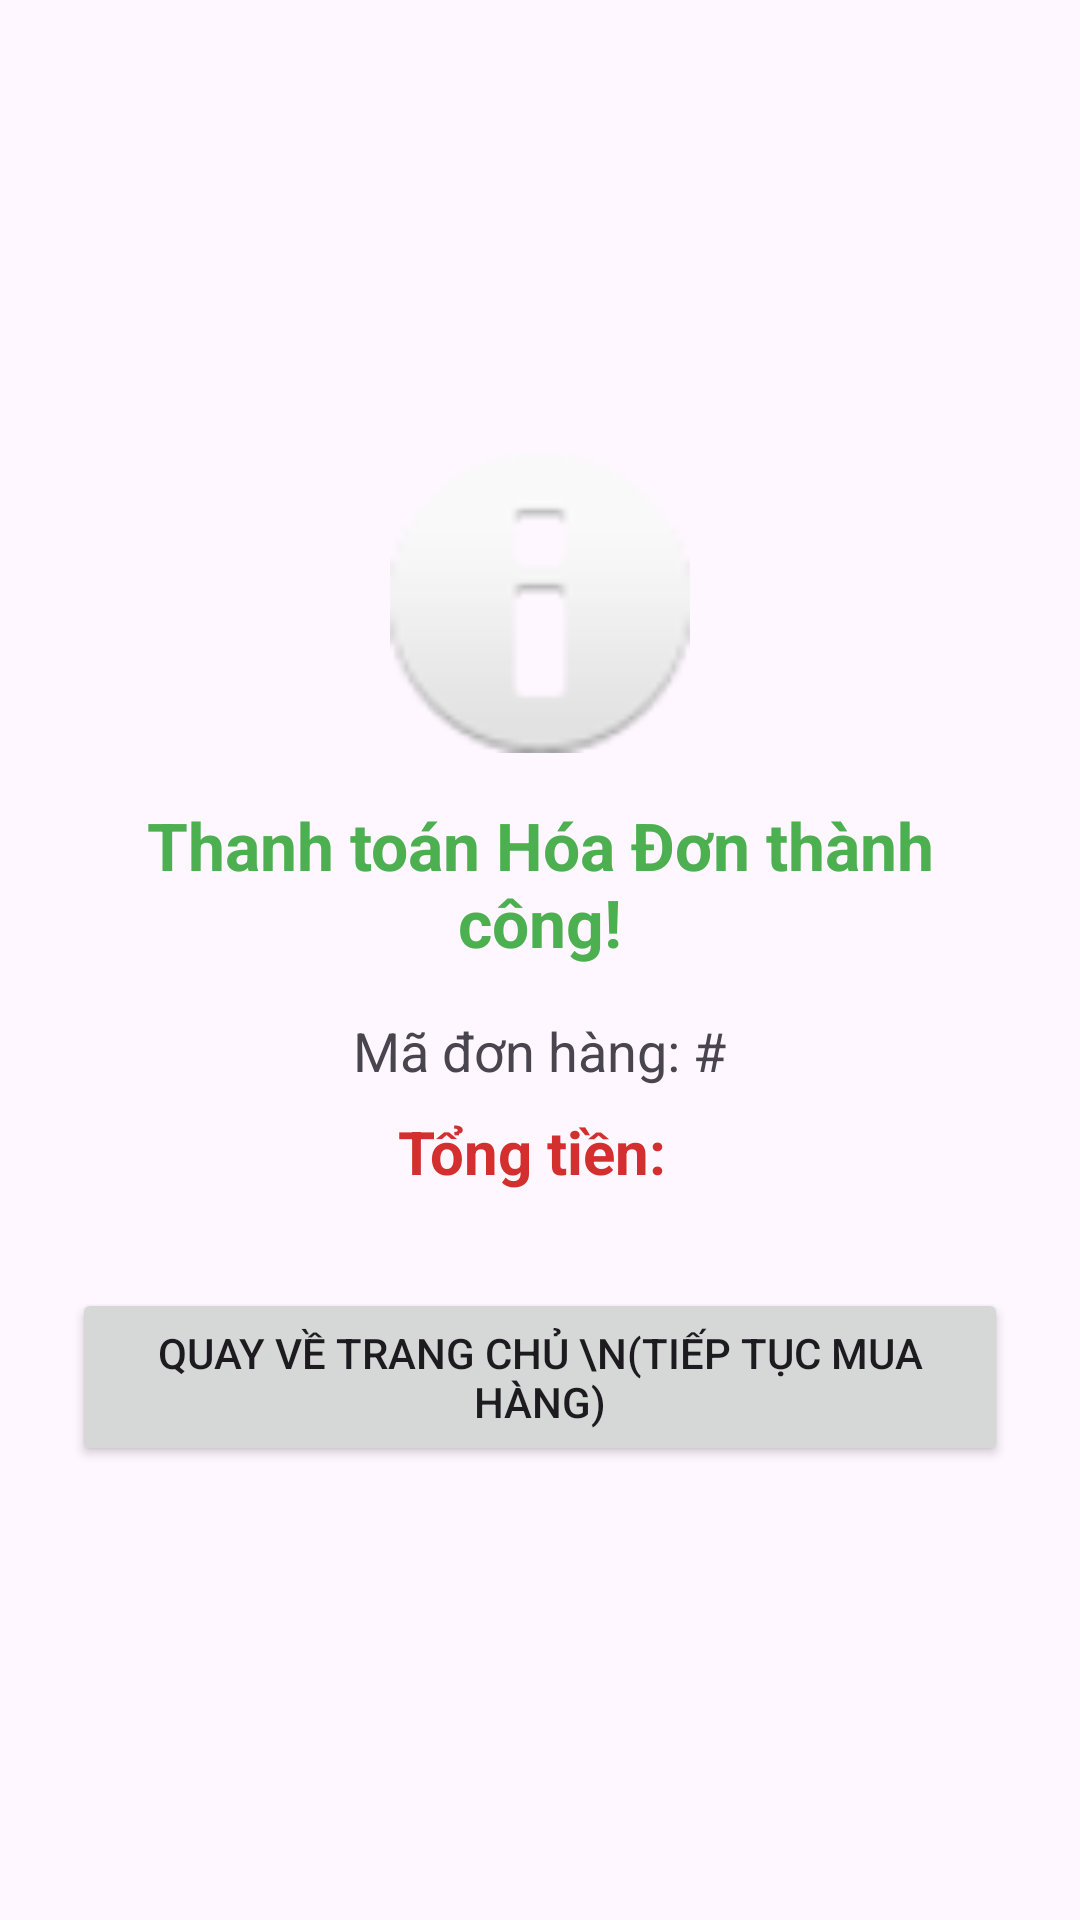

Where to tap for icons on this 1080 x 1920 app screen, as (x=x, y=y):
info: (x=540, y=630)
